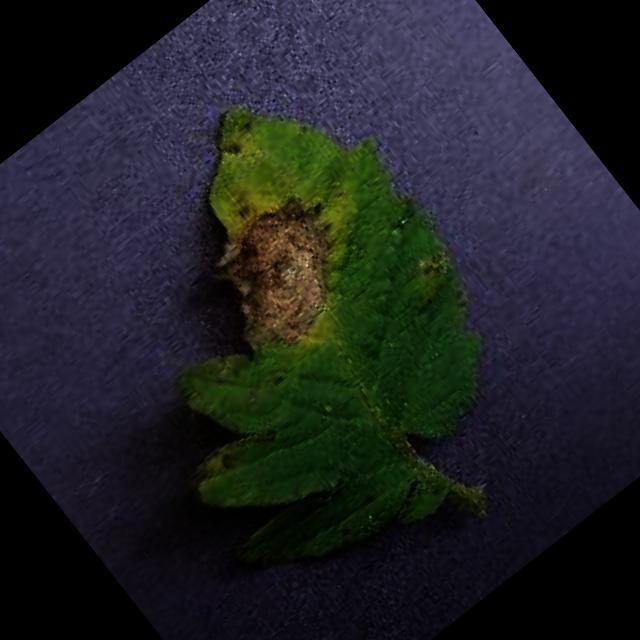Tomato Septoria spot leaf: (1, 49, 572, 636)
